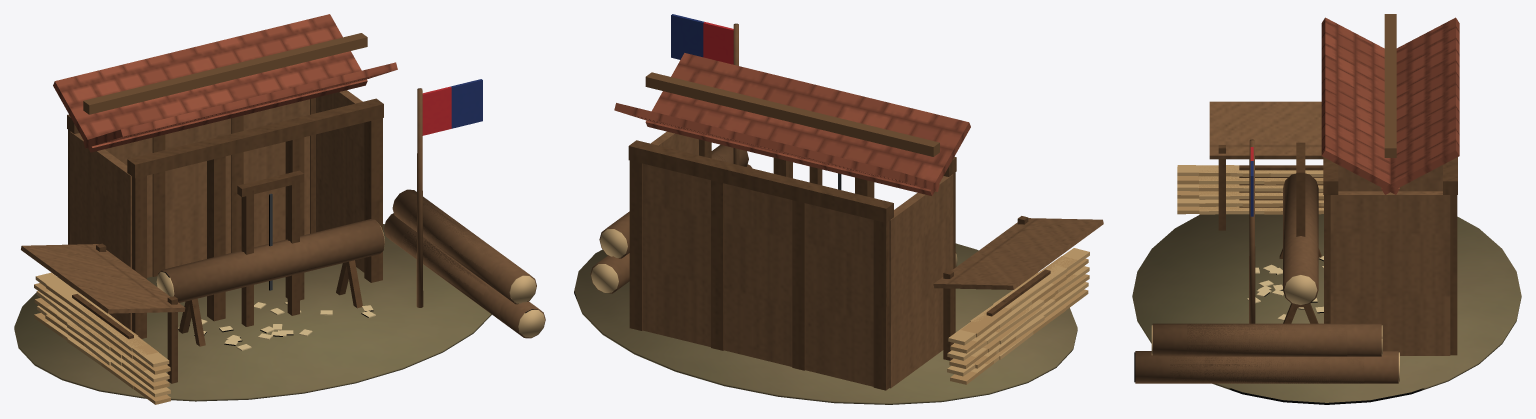
Rendered from sawmill_br.glb.
3 views of the same model, side by side, from view 1: azimuth 30°, elevation 25°; view 2: azimuth 150°, elevation 25°; view 3: azimuth 270°, elevation 25° (orthographic). The views are drawn at different scales.
Visible parts, largest first — view 1: sawmill_br; view 2: sawmill_br; view 3: sawmill_br.
Boxes of the visible parts, x1=… form: sawmill_br: x1=14, y1=14, x2=545, y2=404; sawmill_br: x1=574, y1=14, x2=1103, y2=404; sawmill_br: x1=1132, y1=14, x2=1521, y2=404.
Bounding box in the file's own units: 6.8 × 3.21 × 5.2.
Materials: 1 (1 with a texture image).
